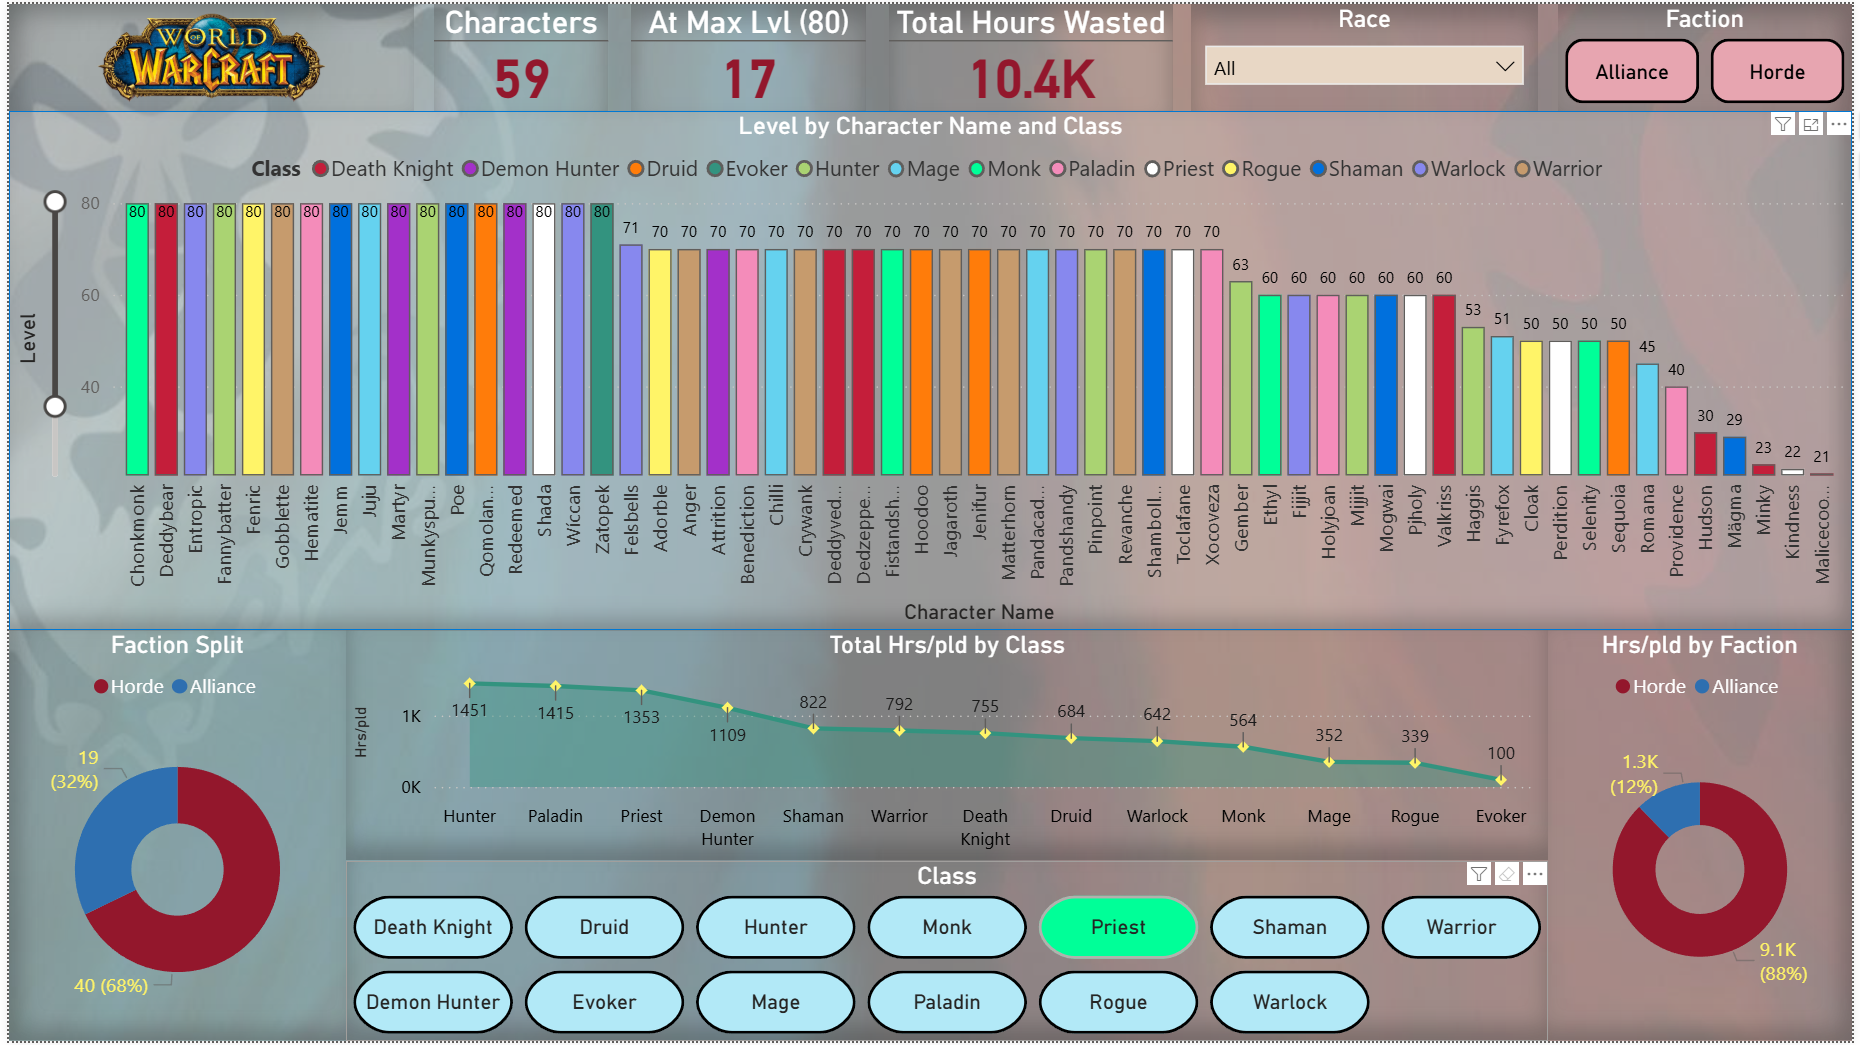

This screenshot's page, from the dashboard's own definition file:
{"tool":"powerbi","page":{"name":"Page 1","canvas":[1280,720],"ordinal":0},"visuals":[{"type":"columnChart","title":"Level by Character Name and Class","fields":{"Category":["Wowchar.Character Name"],"Series":["Wowchar.Class"],"Y":["Wowchar.Level"]},"box":[0,74,1280,361],"z":0},{"type":"advancedSlicerVisual","fields":{"Values":["Wowchar.Class"]},"box":[234,595,835,125],"z":1000},{"type":"card","title":"Characters","fields":{"Values":["Wowchar.Level"]},"box":[295,0,121,74],"z":2000},{"type":"slicer","title":"Race","fields":{"Values":["Wowchar.Race"]},"box":[821,0,241,74],"z":3000},{"type":"advancedSlicerVisual","title":"Faction","fields":{"Values":["Wowchar.Faction"]},"box":[1076,0,204,74],"z":4000},{"type":"image","box":[0,0,281,74],"z":5000},{"type":"card","title":"At Max Lvl (80)","fields":{"Values":["Wowchar.Level"]},"box":[432,0,163,74],"z":6000},{"type":"card","title":"Total Hours Wasted","fields":{"Values":["Wowchar.Total Hrs/pld"]},"box":[611,0,197,74],"z":6001},{"type":"donutChart","title":"Faction Split","fields":{"Category":["Wowchar.Faction"],"Y":["Wowchar.Faction"]},"box":[0,435,234,285],"z":6002},{"type":"lineChart","title":"Total Hrs/pld by Class","fields":{"Y":["Wowchar.Total Hrs/pld"],"Category":["Wowchar.Class"]},"box":[234,435,835,160],"z":6003},{"type":"donutChart","title":"Hrs/pld by Faction","fields":{"Category":["Wowchar.Faction"],"Y":["Wowchar.Total Hrs/pld"]},"box":[1069,435,211,285],"z":6004}]}

Visuals, with their boxes in screenshot pixels (x1, y1, x2, y2), scaled from the page's 1280x720 canvas onto the 1860x1045 screenshot:
"Level by Character Name and Class" columnChart: [0,107,1859,631]
advancedSlicerVisual - Wowchar.Class: [340,864,1553,1044]
"Characters" card: [429,0,604,107]
"Race" slicer: [1193,0,1543,107]
"Faction" advancedSlicerVisual: [1564,0,1859,107]
image: [0,0,408,107]
"At Max Lvl (80)" card: [628,0,865,107]
"Total Hours Wasted" card: [888,0,1174,107]
"Faction Split" donutChart: [0,631,340,1044]
"Total Hrs/pld by Class" lineChart: [340,631,1553,864]
"Hrs/pld by Faction" donutChart: [1553,631,1859,1044]
